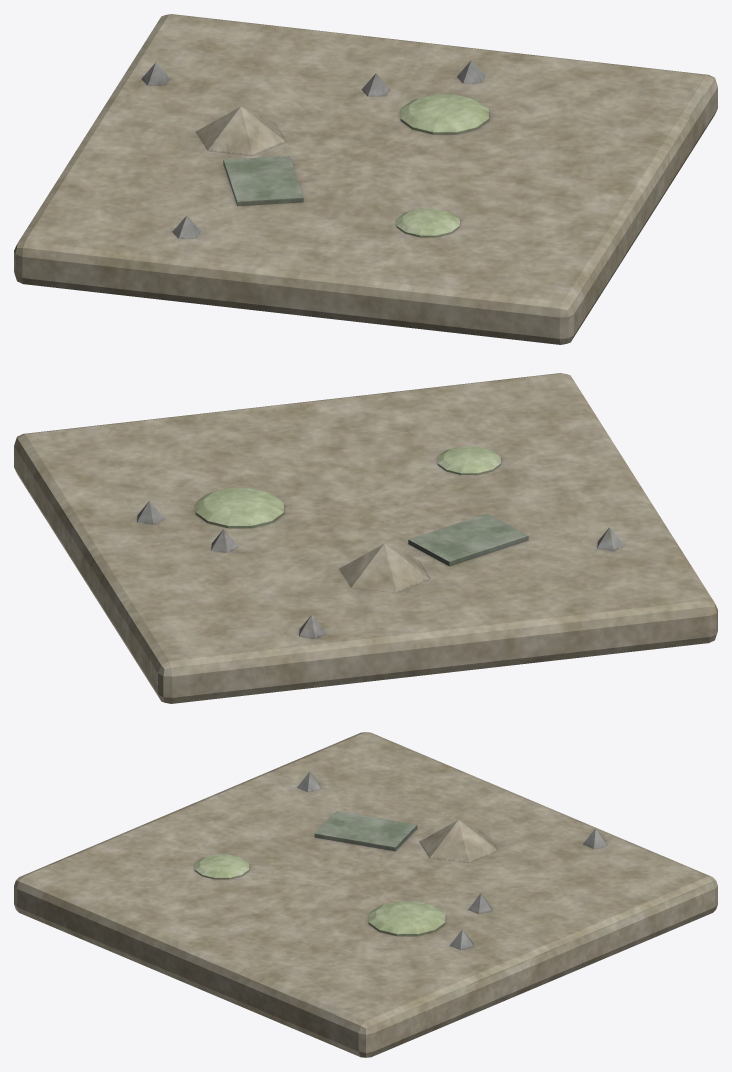
The model's file is gryk_plains.glb.
The picture shows the model from 3 angles, top to bottom: view 1: azimuth 30°, elevation 25°; view 2: azimuth 150°, elevation 25°; view 3: azimuth 270°, elevation 25°; orthographic projection. The views are drawn at different scales.
Parts seen in each view (by area): view 1: dilek; view 2: dilek; view 3: dilek.
Part boxes in pixels (x1,y1,x2,y2): dilek: (14, 14, 717, 344); dilek: (14, 373, 717, 703); dilek: (14, 732, 717, 1057).
Size of the model in its own units: 2.42 by 0.24 by 2.42.
1 material, 1 textured.
